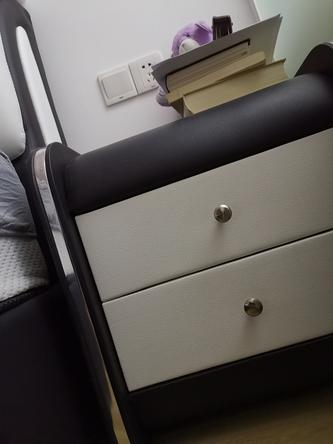switch: (99, 65, 138, 98)
